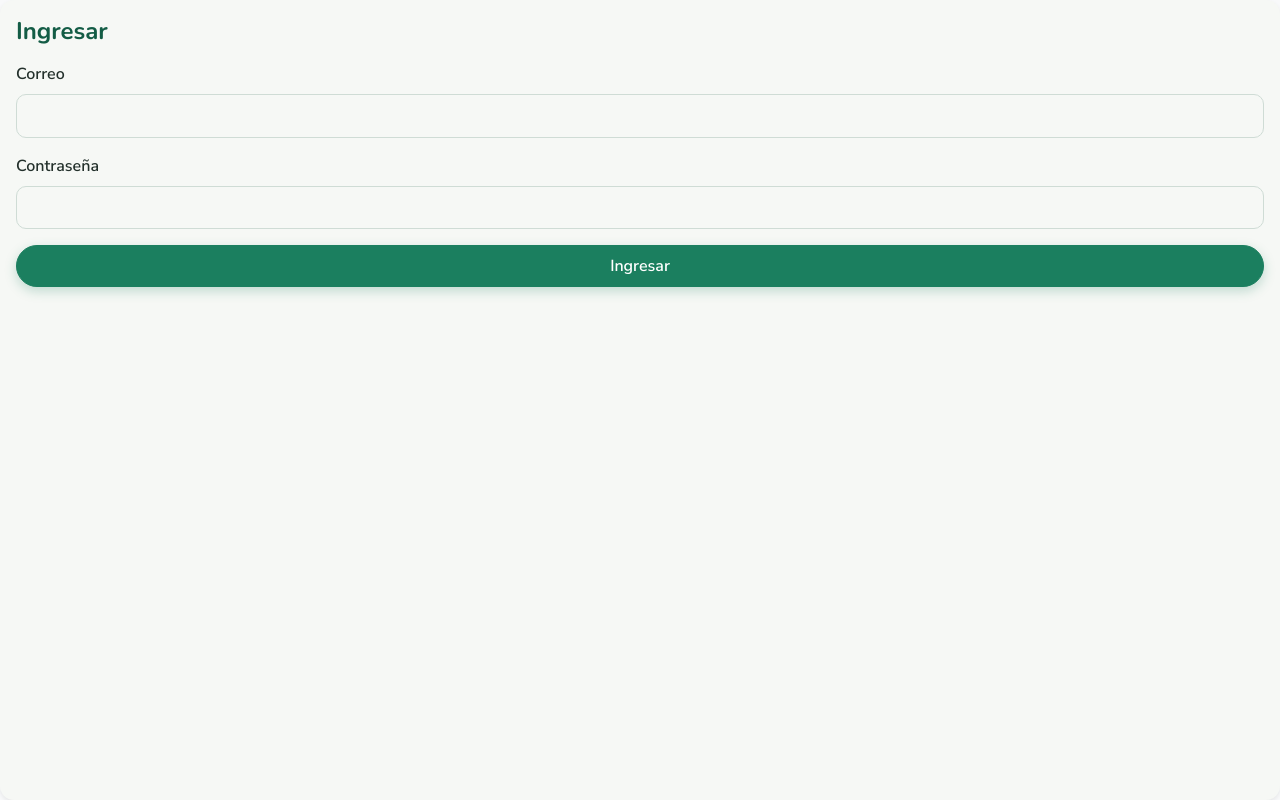
Test: FormularioLogin › muestra errores si se envía vacío y no llama a onEnviar
The width and height of the screenshot is (1280, 800).
Click the button "Ingresar". click: point(640, 266)
box: [16,245,1264,287]
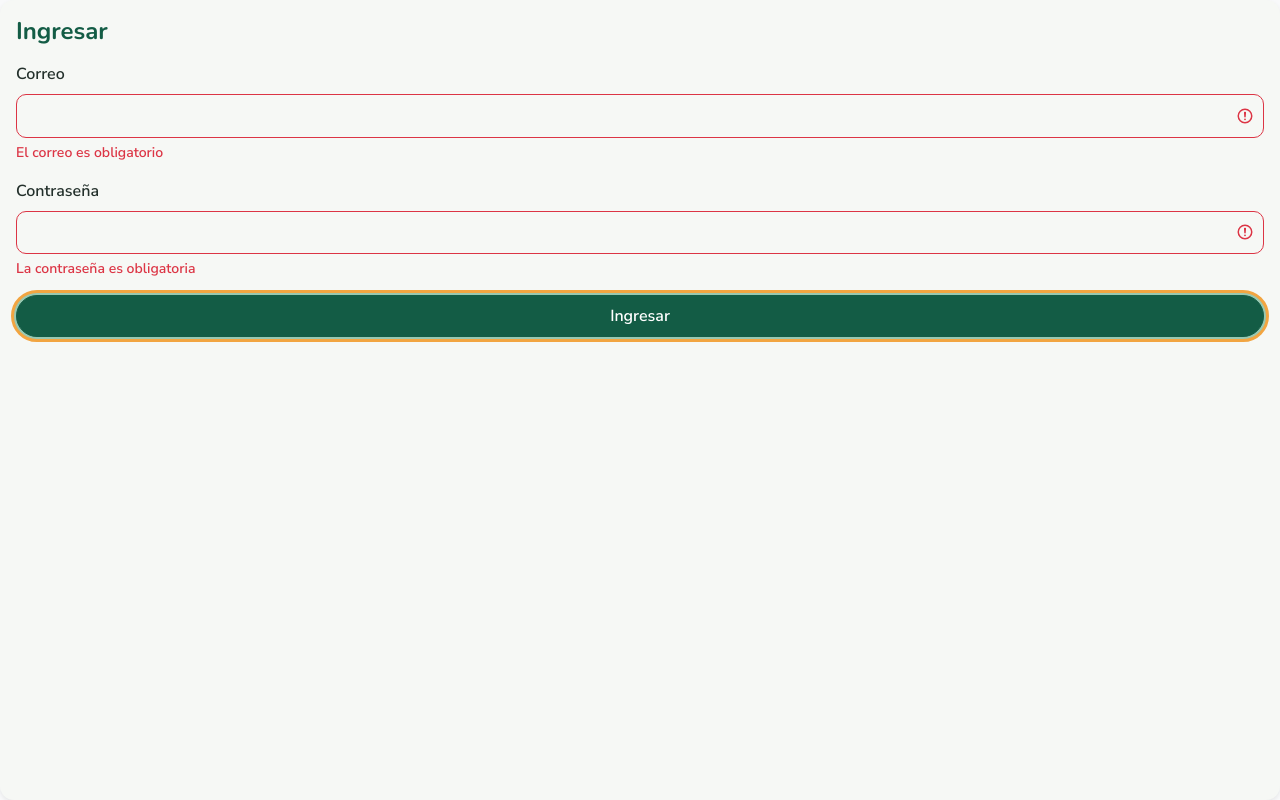
Expected: the text "El correo es obligatorio" is shown, [16,143,163,162]
Expected: the text "La contraseña es obligatoria" is shown, [16,259,195,278]
